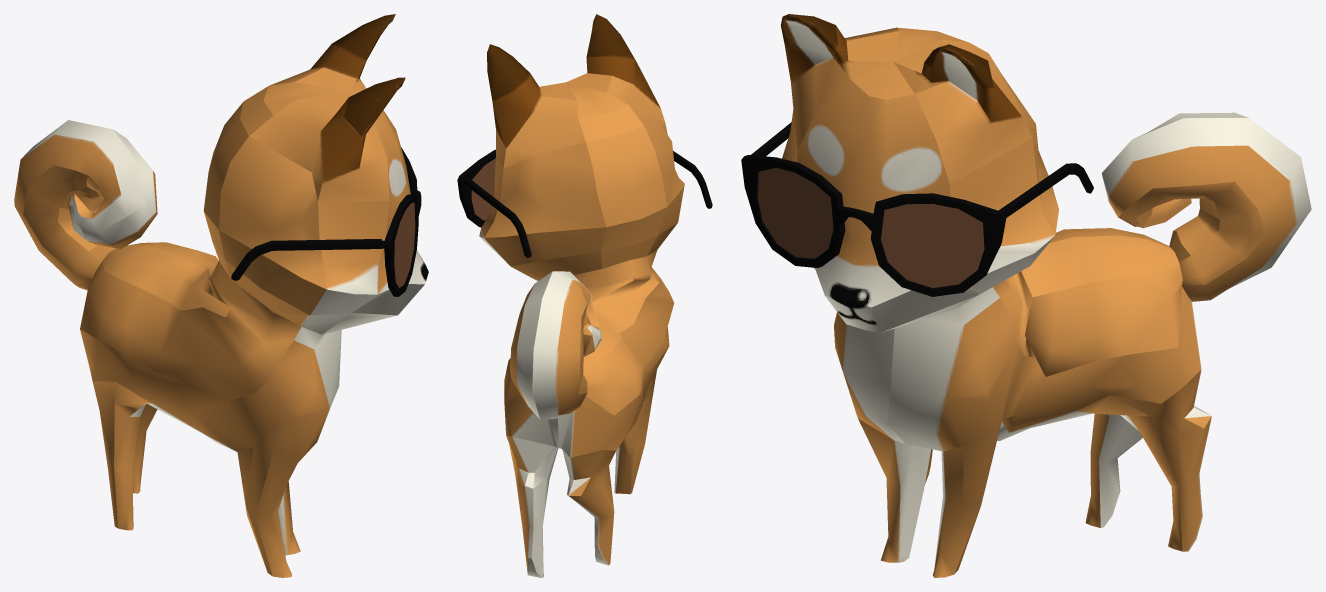
Rendered from sunglasses_frame1.obj.
3 views of the same model, side by side, from view 1: azimuth 30°, elevation 25°; view 2: azimuth 150°, elevation 25°; view 3: azimuth 270°, elevation 25° (orthographic). The views are drawn at different scales.
Visible parts, largest first — view 1: newRigging:BodzL1, polySurface2; view 2: newRigging:BodzL1, polySurface2; view 3: newRigging:BodzL1, polySurface2.
Part boxes in pixels (bbox=[...]): newRigging:BodzL1: bbox=[14, 14, 428, 577]; polySurface2: bbox=[231, 147, 421, 296]; newRigging:BodzL1: bbox=[479, 14, 684, 577]; polySurface2: bbox=[457, 149, 712, 257]; newRigging:BodzL1: bbox=[780, 14, 1311, 577]; polySurface2: bbox=[741, 122, 1093, 296].
Size of the model in its own units: 4.06 by 7.92 by 6.95.
Materials: 3 (3 with a texture image).
